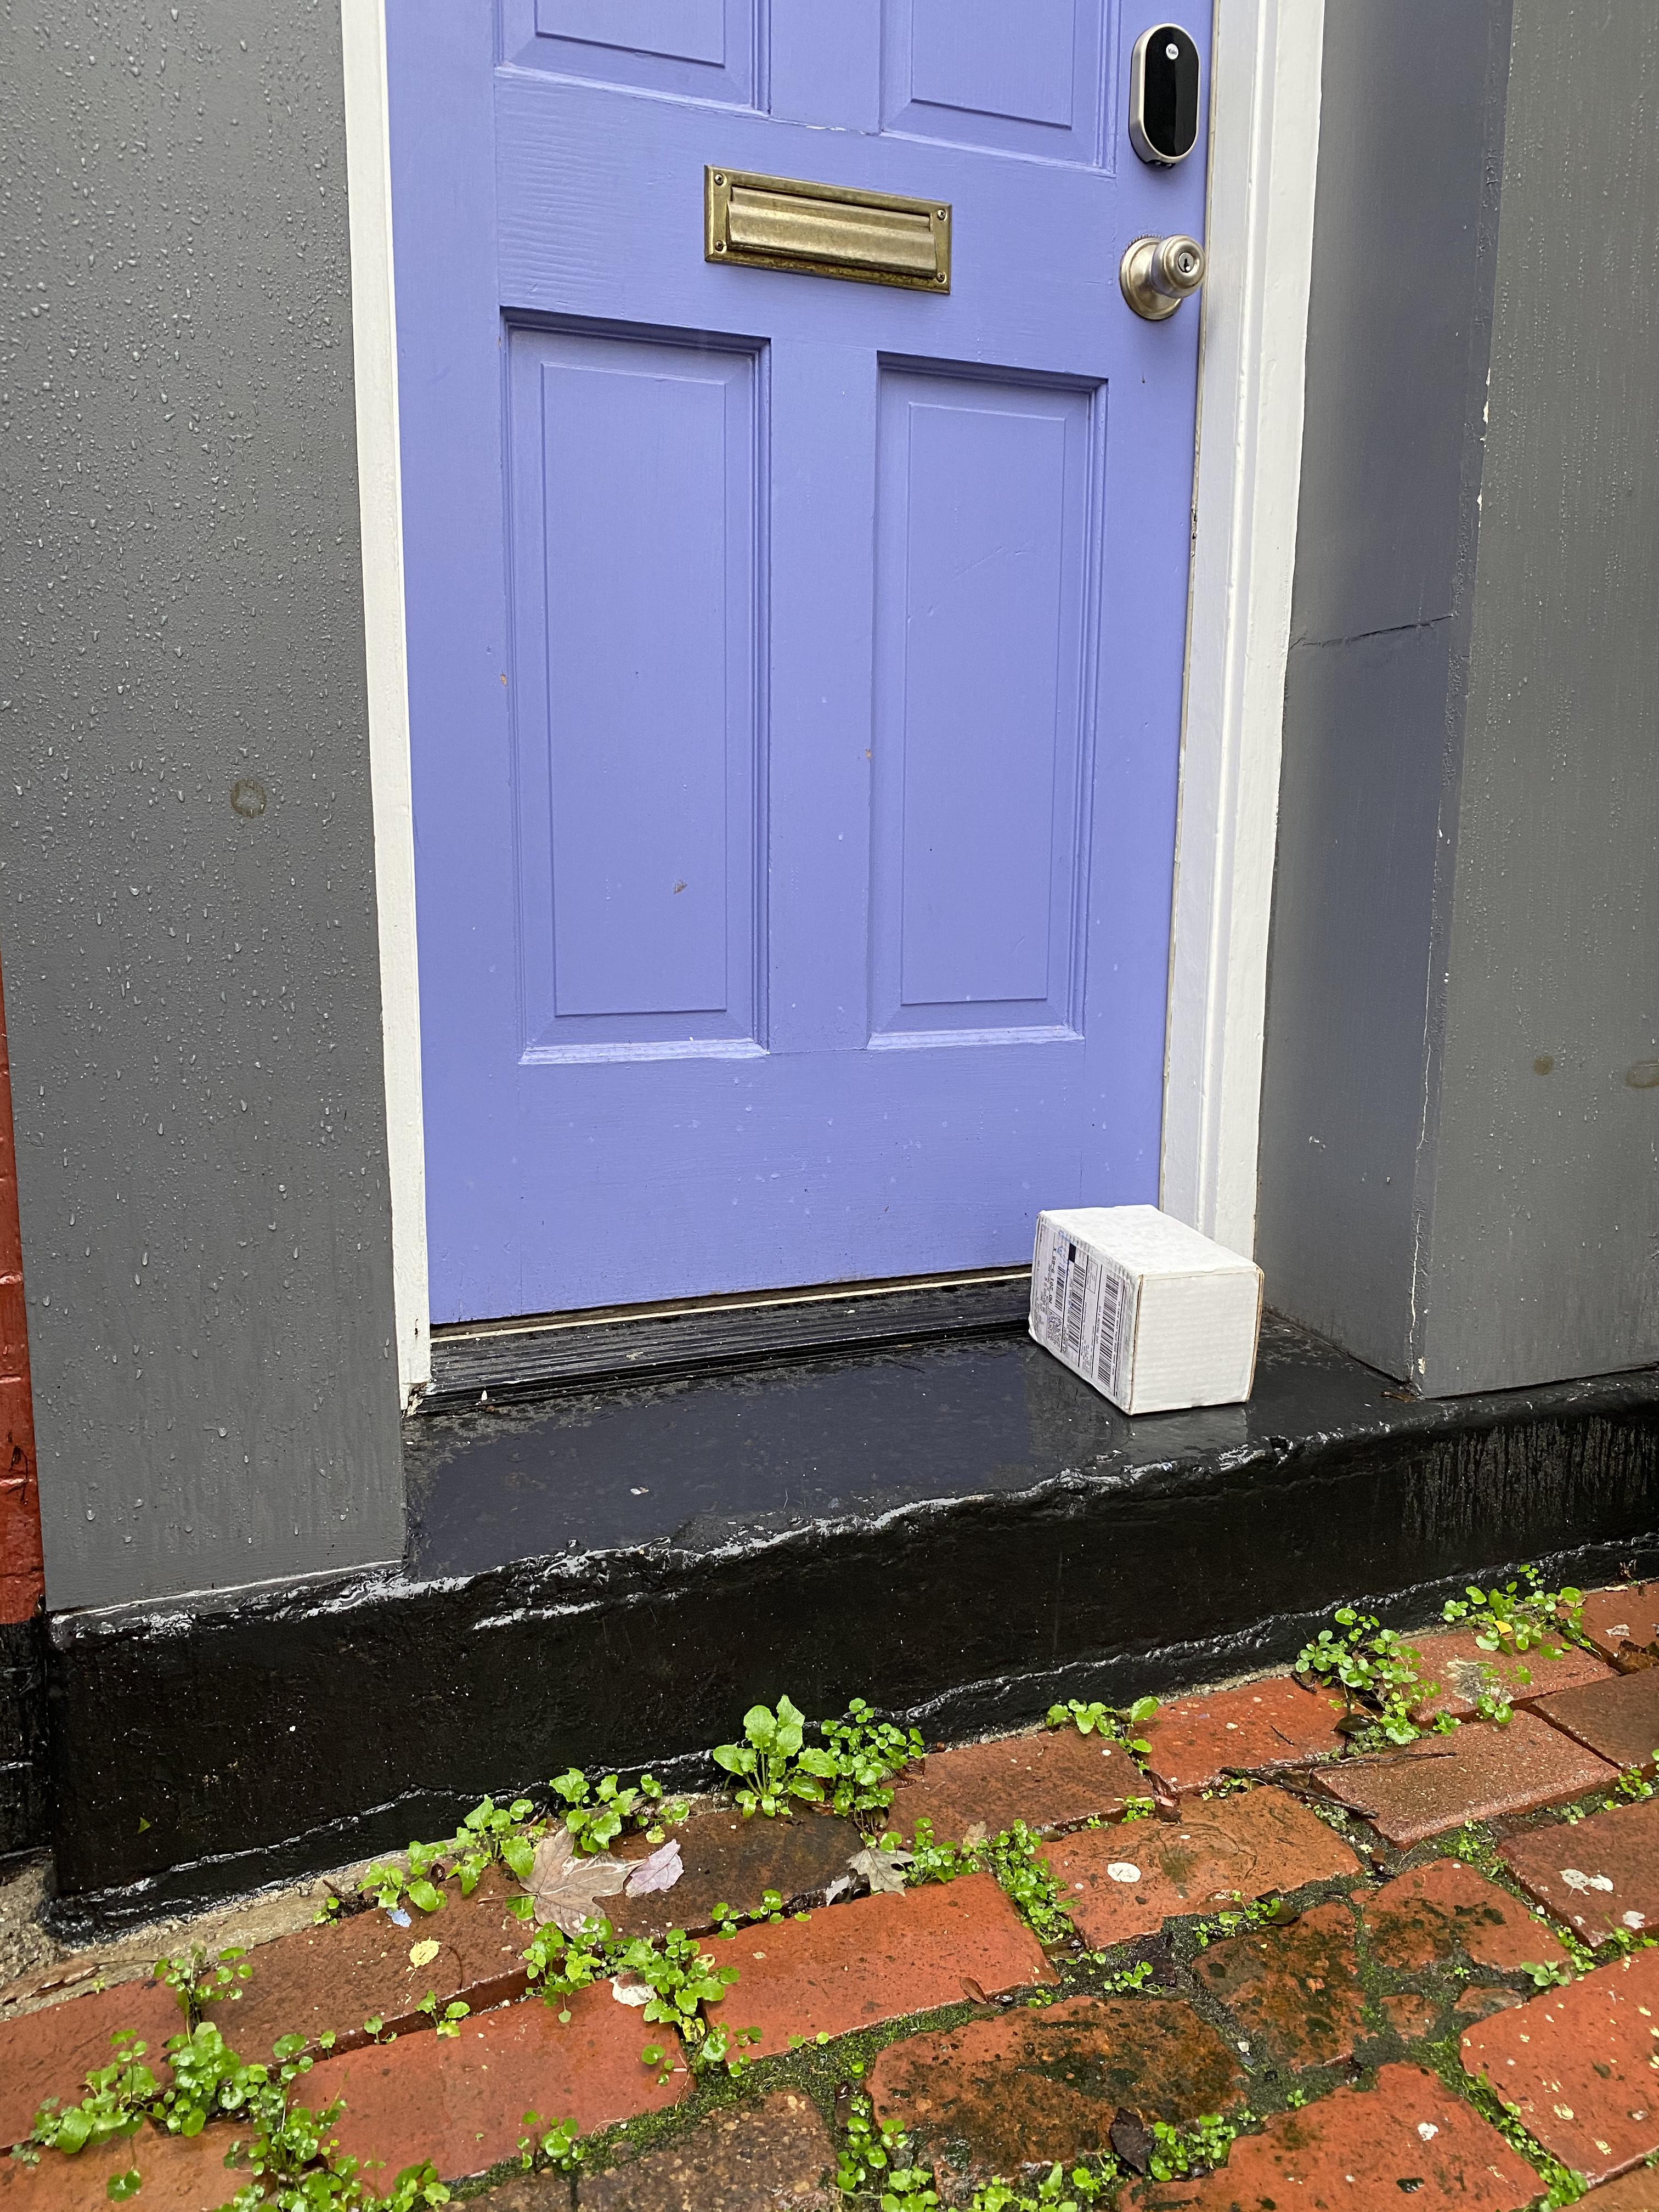package: (1021, 1193, 1277, 1426)
